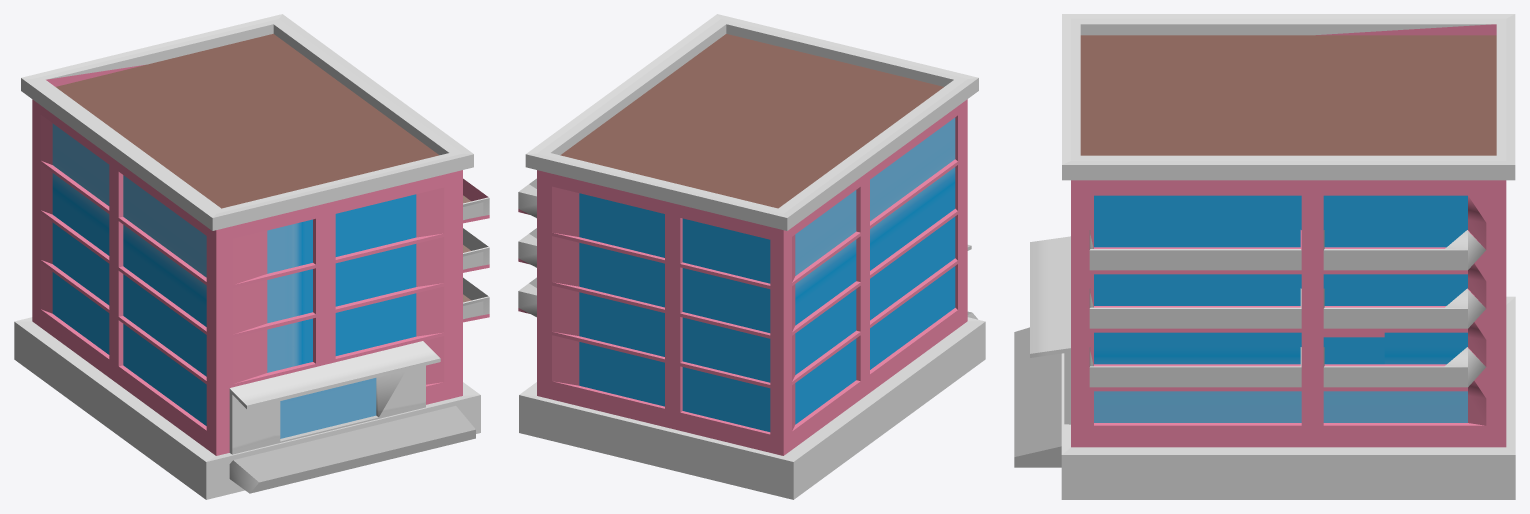
File: PinkBuilding6x8x7.fbx
The picture shows the model from 3 angles, left to right: view 1: azimuth 30°, elevation 25°; view 2: azimuth 150°, elevation 25°; view 3: azimuth 270°, elevation 25°; orthographic projection. The views are drawn at different scales.
Visible parts, largest first — view 1: House; view 2: House; view 3: House.
Part boxes in pixels (box(x1,y1,x2,y2)): House: box(14, 14, 489, 499); House: box(518, 14, 985, 499); House: box(1014, 14, 1515, 499).
Bounding box in the file's own units: 7.82 × 7.09 × 9.73.
1 material, 1 textured.
